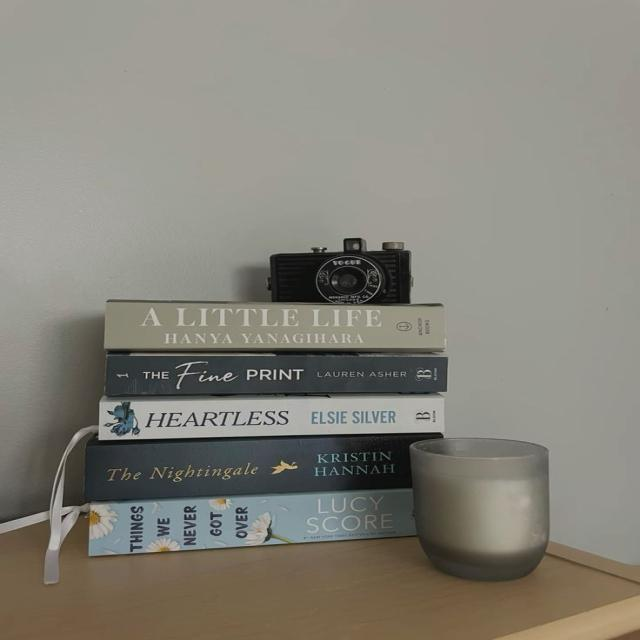book: (85, 433, 441, 500), (88, 489, 415, 556), (104, 300, 444, 353), (98, 394, 443, 440), (104, 354, 448, 397)
camera: (268, 238, 410, 304)
candle: (410, 438, 549, 581)
